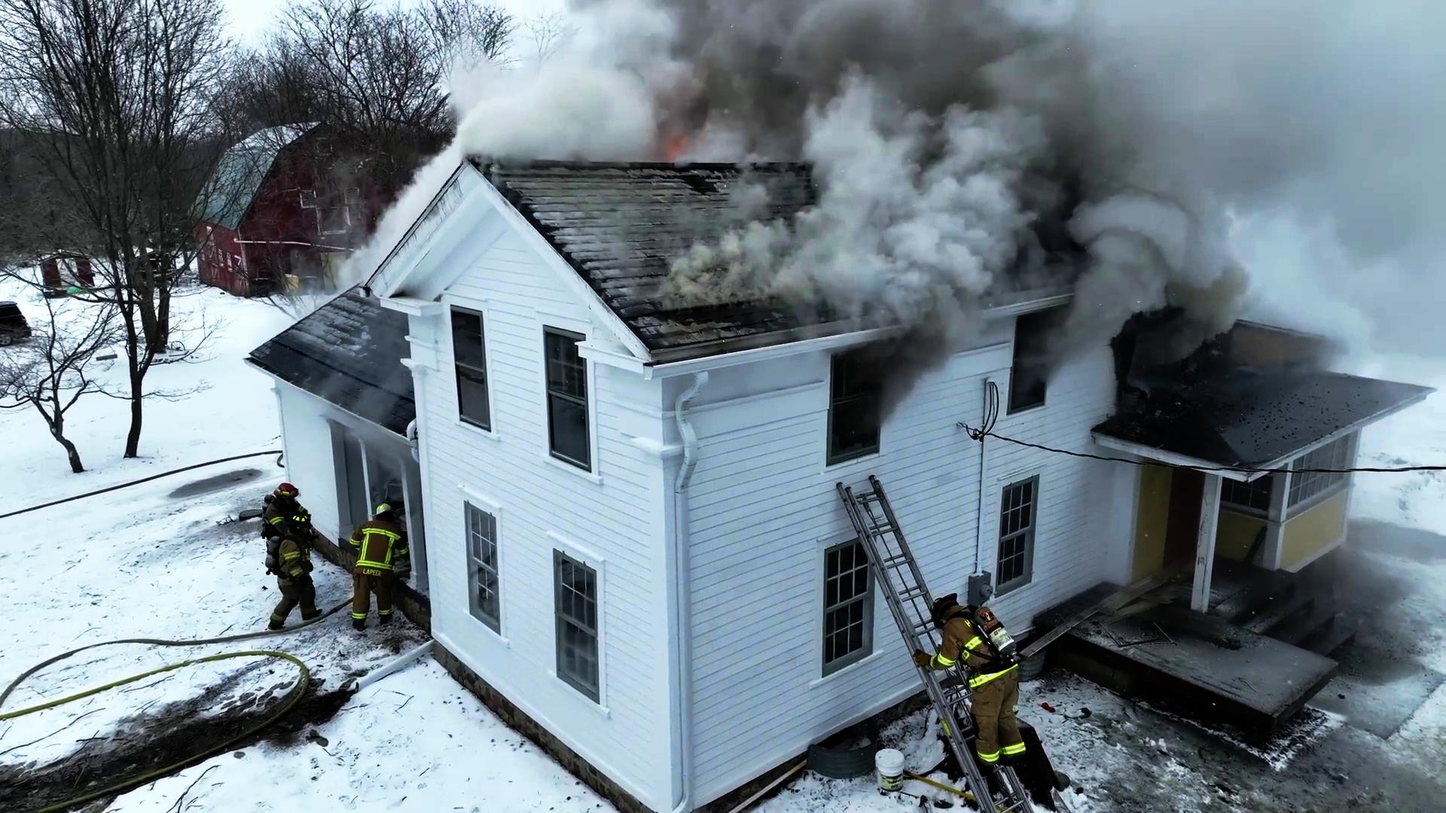smoke: (848, 23, 1391, 228)
